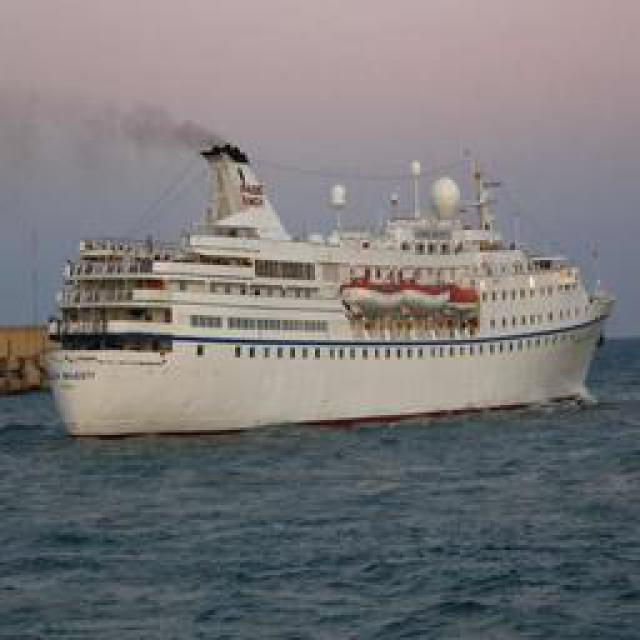Ship: (52, 136, 612, 434)
